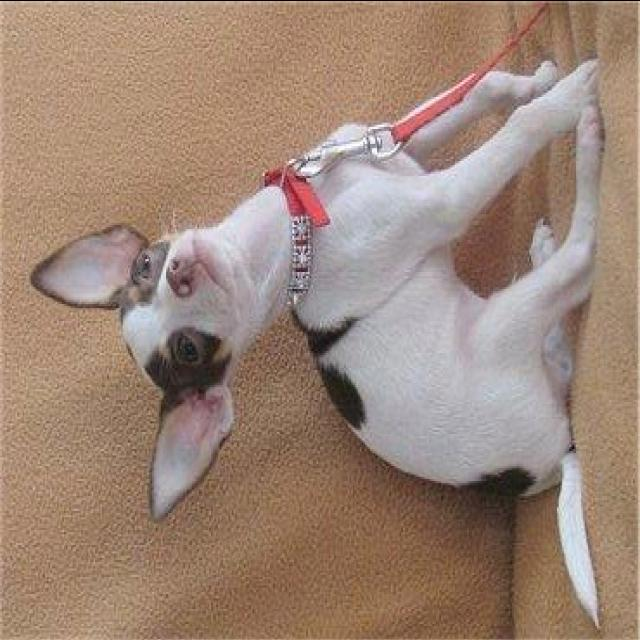toy_terrier: (28, 51, 609, 627)
